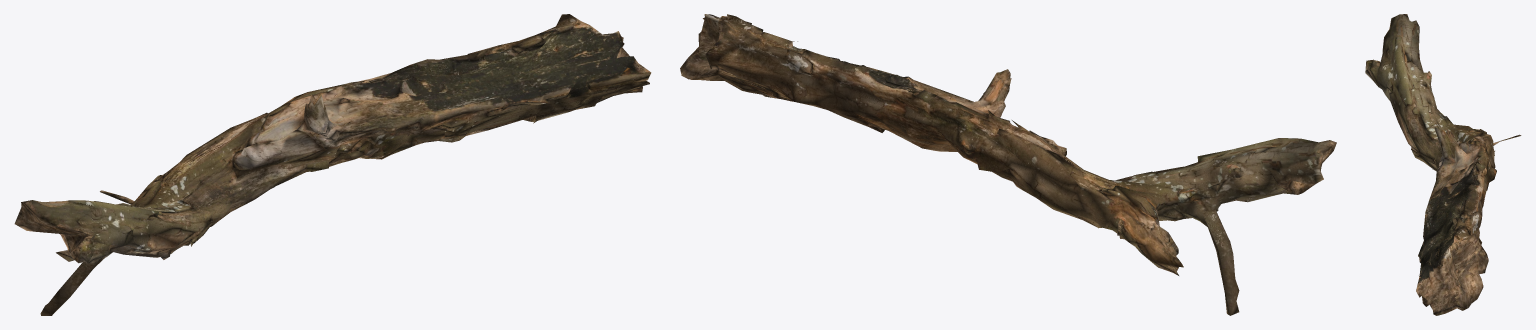
File: dead_tree_trunk_02.glb
3 renders of one model, left to right at view 1: azimuth 30°, elevation 25°; view 2: azimuth 150°, elevation 25°; view 3: azimuth 270°, elevation 25°, orthographic. The views are drawn at different scales.
Parts seen in each view (by area): view 1: a; view 2: a; view 3: a.
Part boxes in pixels (x1,y1,x2,y2): a: (14, 14, 651, 315); a: (680, 14, 1336, 315); a: (1365, 14, 1521, 315).
Bounding box in the file's own units: 4.05 × 1.05 × 1.05.
1 material, 1 textured.
